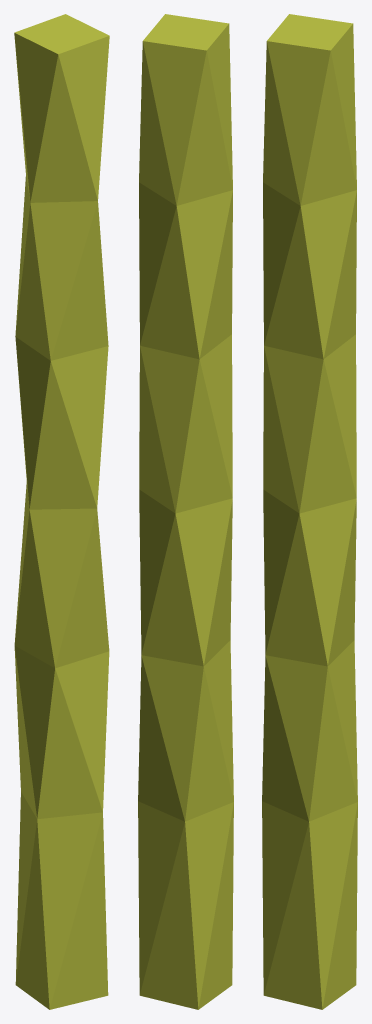
Rendered from Seaweed_01.fbx.
3 views of the same model, side by side, from view 1: azimuth 30°, elevation 25°; view 2: azimuth 150°, elevation 25°; view 3: azimuth 330°, elevation 25° (orthographic).
Visible parts, largest first — view 1: Seaweed_01; view 2: Seaweed_01; view 3: Seaweed_01.
Boxes of the visible parts, left/top/right/bottom form: Seaweed_01: left=14, top=14, right=109, bottom=1009; Seaweed_01: left=138, top=14, right=233, bottom=1009; Seaweed_01: left=262, top=14, right=357, bottom=1009.
Bounding box in the file's own units: 0.0448 × 0.517 × 0.0448.
